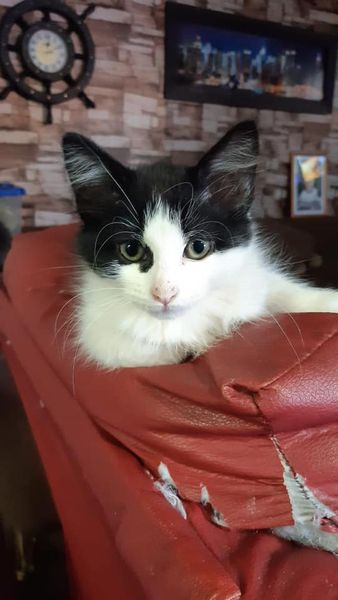cat: (55, 116, 329, 379)
